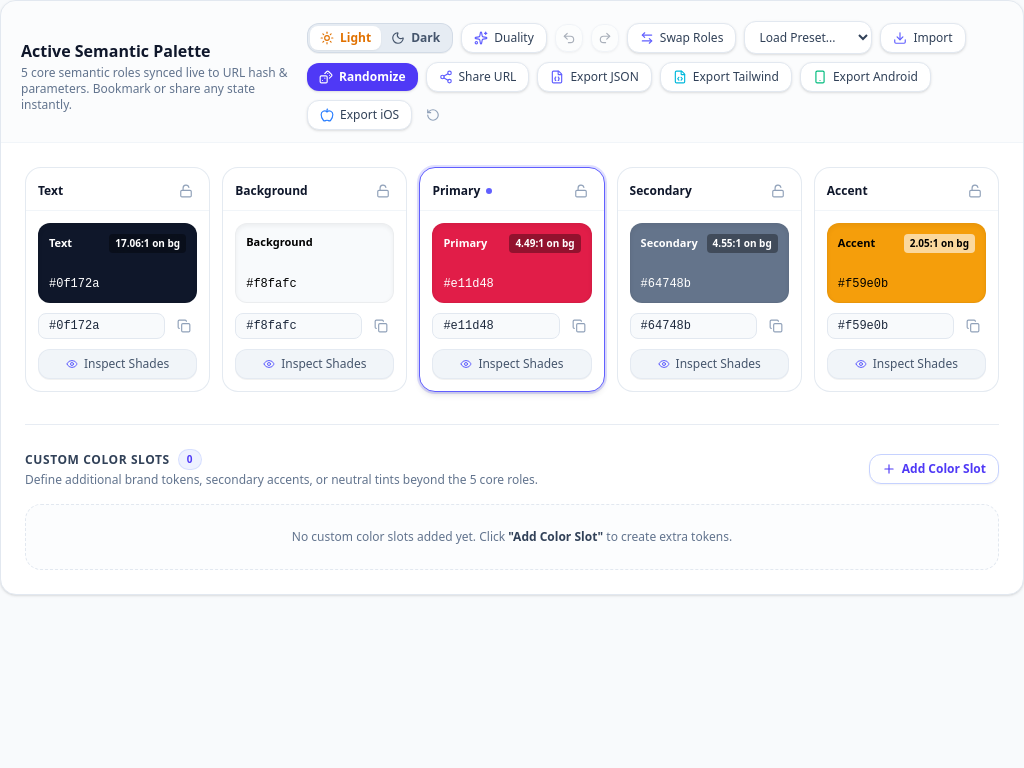
PaletteBar (TT-008) › opens Export Theme JSON modal when clicking Export JSON button
The image size is (1024, 768).
Click the button with aria-label "Export Theme JSON" at [595, 77], box [537, 62, 652, 92]
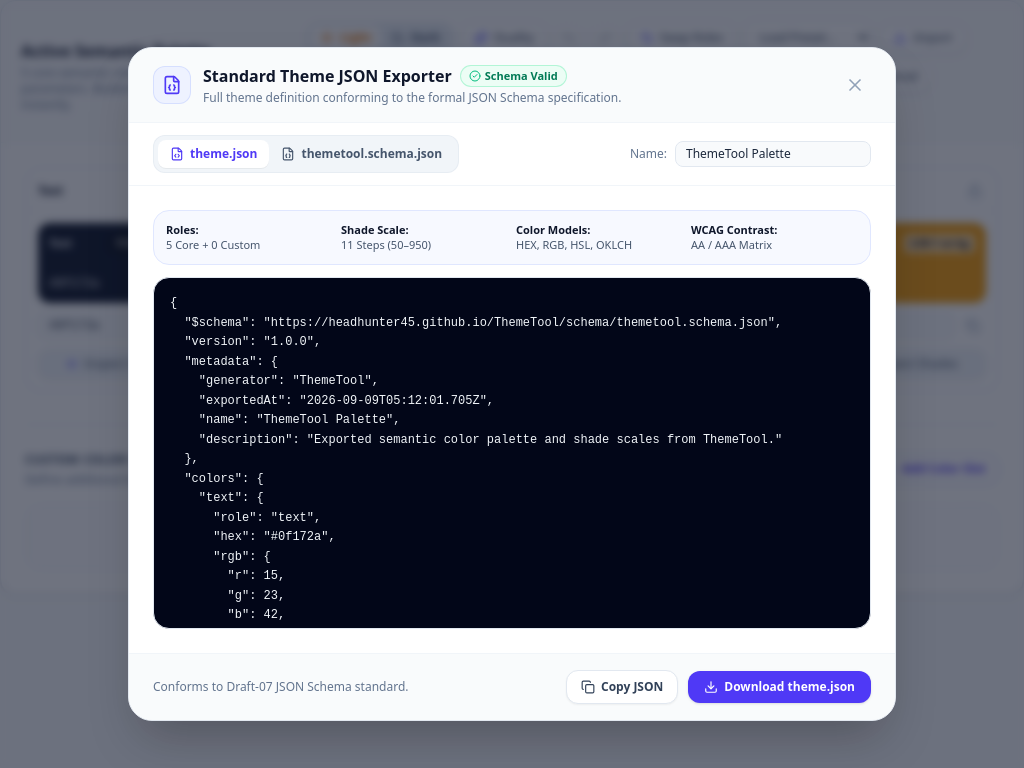
Result: the dialog is shown
Result: the heading "Standard Theme JSON Exporter" is shown at [203, 64, 452, 88]
